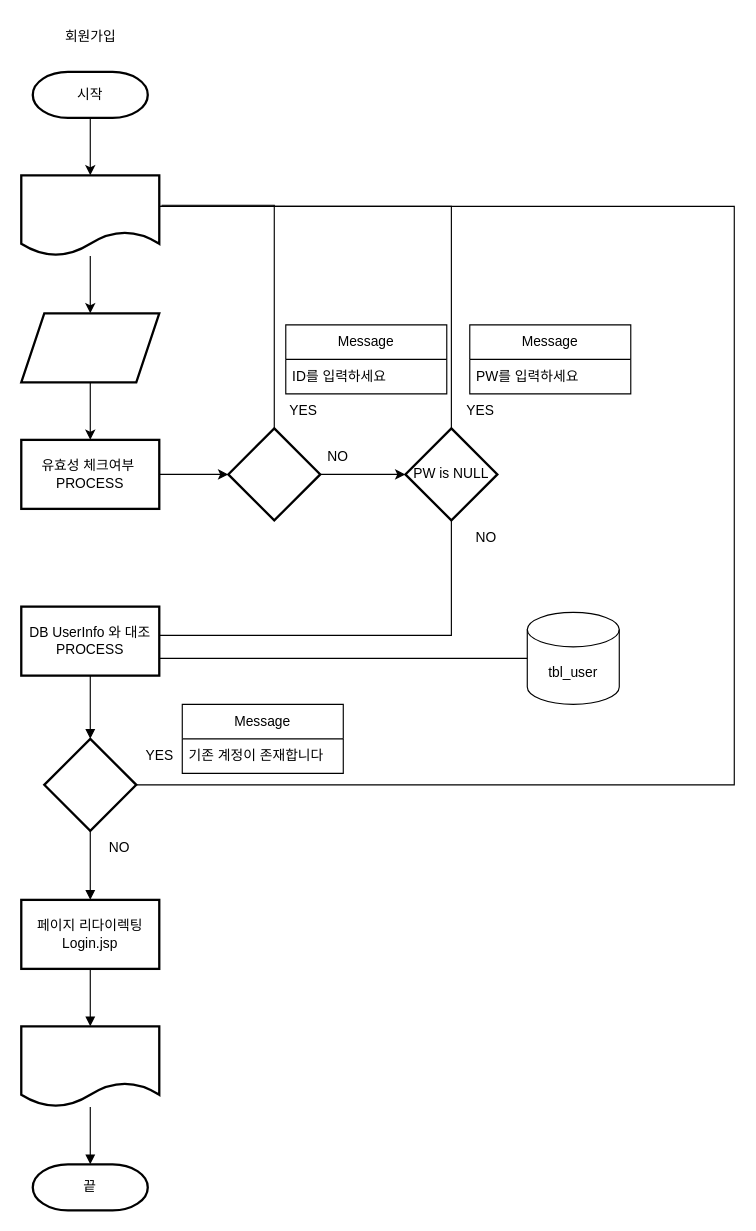
This 756x1231 diagram has some shape labels left out. The centre of each missing label's shape, as x and y in pixels:
"ID is NULL" goes at point 274,474.
"Login.jsp Page" goes at point 90,1066.
"동일계정 존재여부" goes at point 90,784.
"회원가입양식" goes at point 90,215.
"회원정보입력 (ID/PW)" goes at point 90,347.
